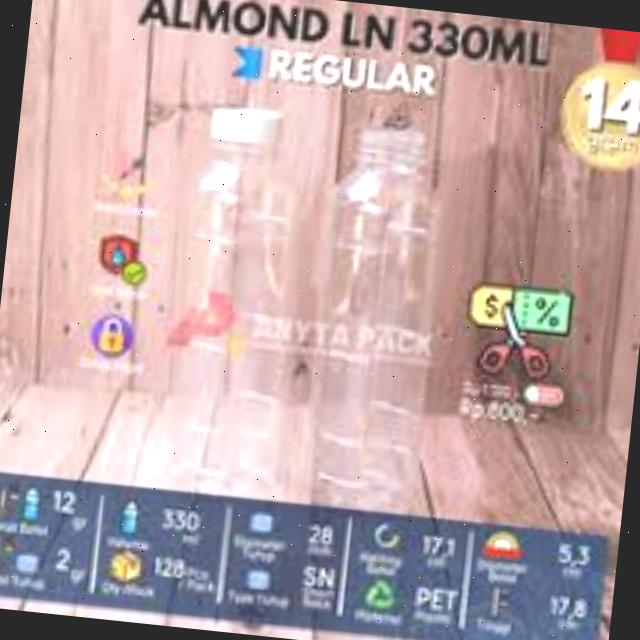trash: (157, 94, 330, 490), (304, 110, 467, 510)
